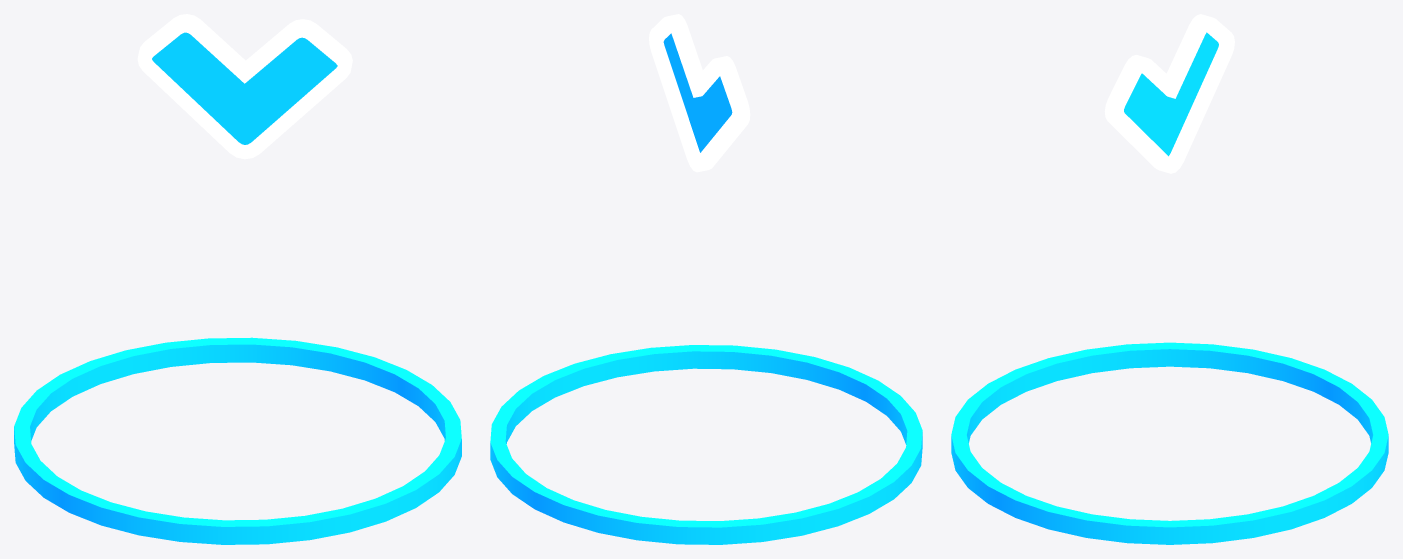
File: bluePod.glb
3 renders of one model, left to right at view 1: azimuth 30°, elevation 25°; view 2: azimuth 150°, elevation 25°; view 3: azimuth 270°, elevation 25°, orthographic. The views are drawn at different scales.
Parts seen in each view (by area): view 1: bluePod; view 2: bluePod; view 3: bluePod.
Part boxes in pixels (x1,y1,x2,y2): bluePod: (14, 14, 461, 544); bluePod: (490, 14, 922, 544); bluePod: (951, 14, 1388, 544).
Size of the model in its own units: 6.59 by 6.96 by 6.59.
